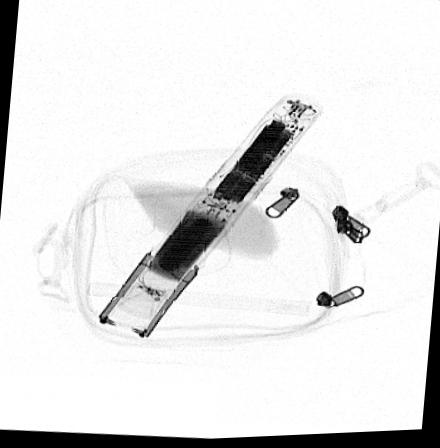Baton: (96, 93, 324, 343)
